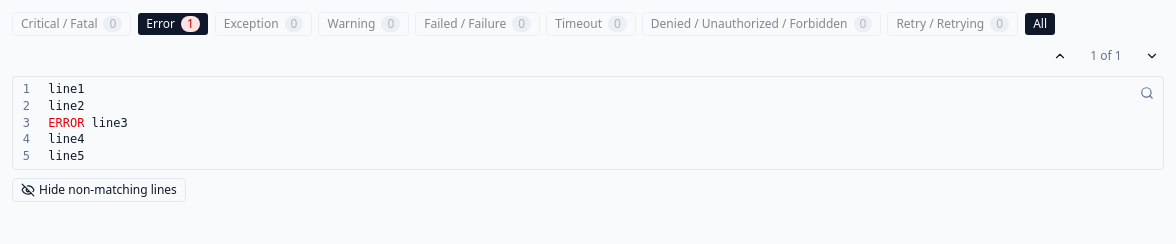
Test: LogViewerWidget › folds lines outside the context window once "Hide non-matching lines" is on
Click the button "Hide non-matching lines": (99, 190) left=12, top=178, right=186, bottom=202
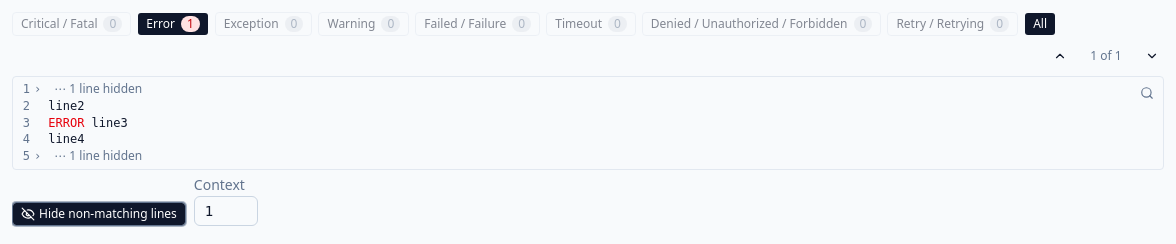
Now the number of elements with class "cm-log-fold-placeholder" is 2, box left=48, top=81, right=148, bottom=98; left=48, top=148, right=148, bottom=165
Now the text "line1" is gone
Now the text "line5" is gone
